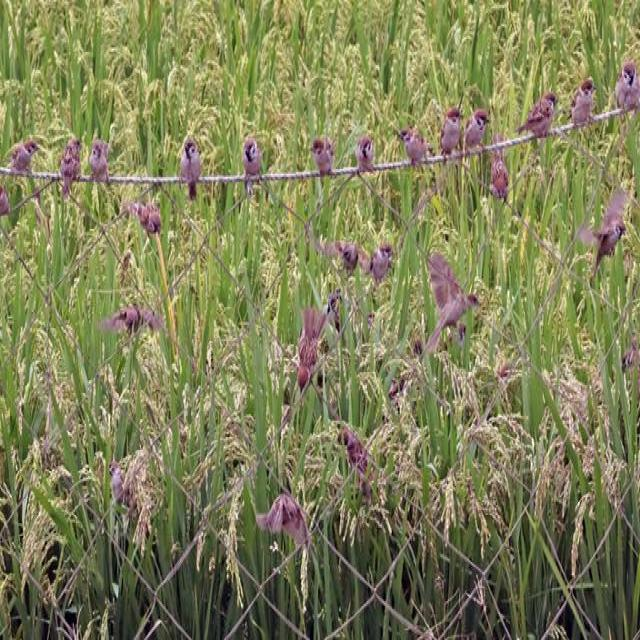bird: (520, 90, 563, 143), (568, 80, 600, 131), (610, 60, 638, 115), (437, 110, 469, 157), (3, 136, 41, 175), (396, 126, 433, 166), (176, 141, 207, 187)
